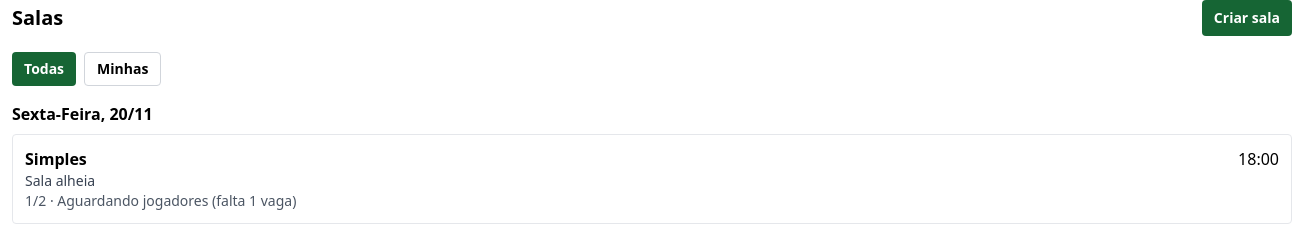
Test: Minhas sem salas mostra estado vazio
Expected: the text "Sala alheia" is shown, [25,171,95,190]
Click the button "Minhas" at (123, 69), box [84,52,161,86]
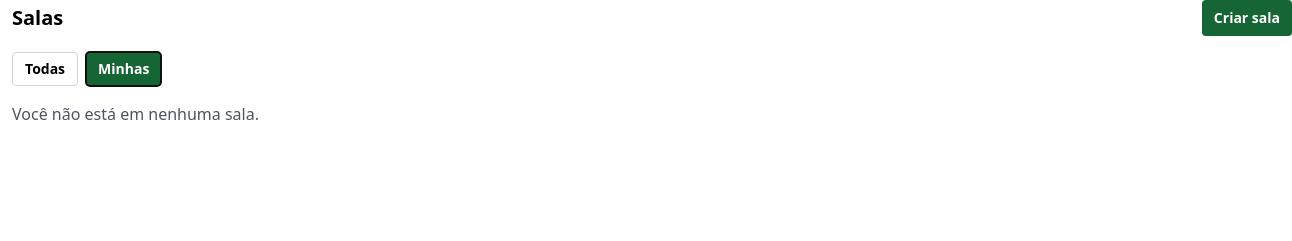
Expected: the text "Você não está em nenhuma sala." is shown, [12,103,259,125]
